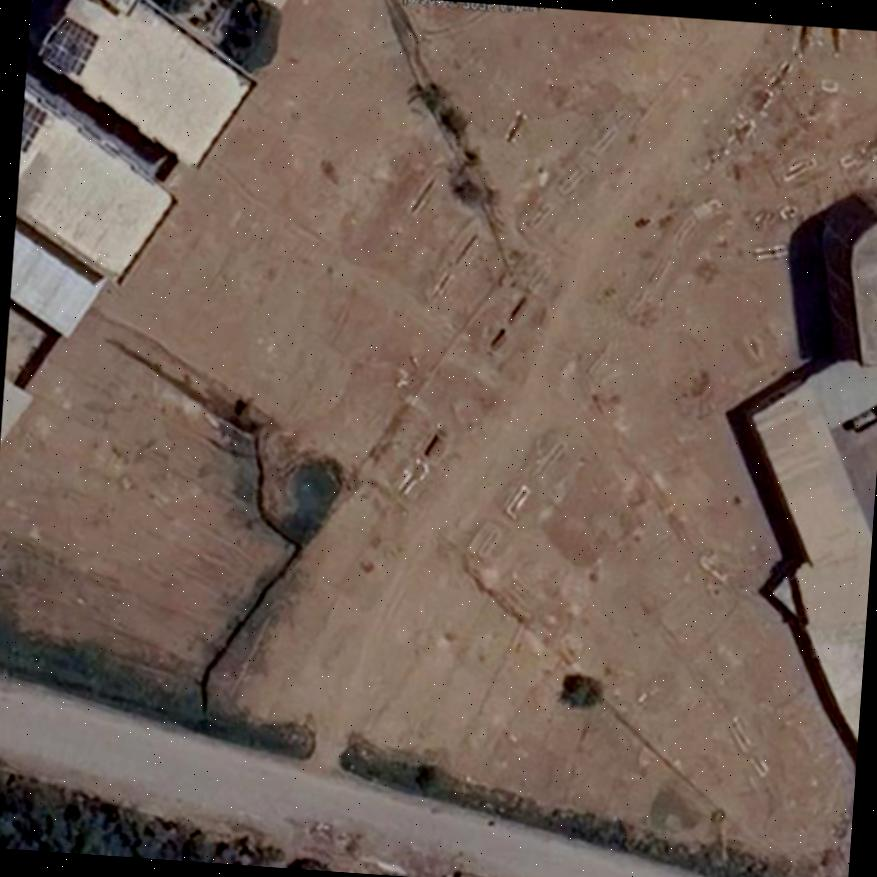Solarpanel: (45, 16, 97, 74), (19, 99, 45, 151)
